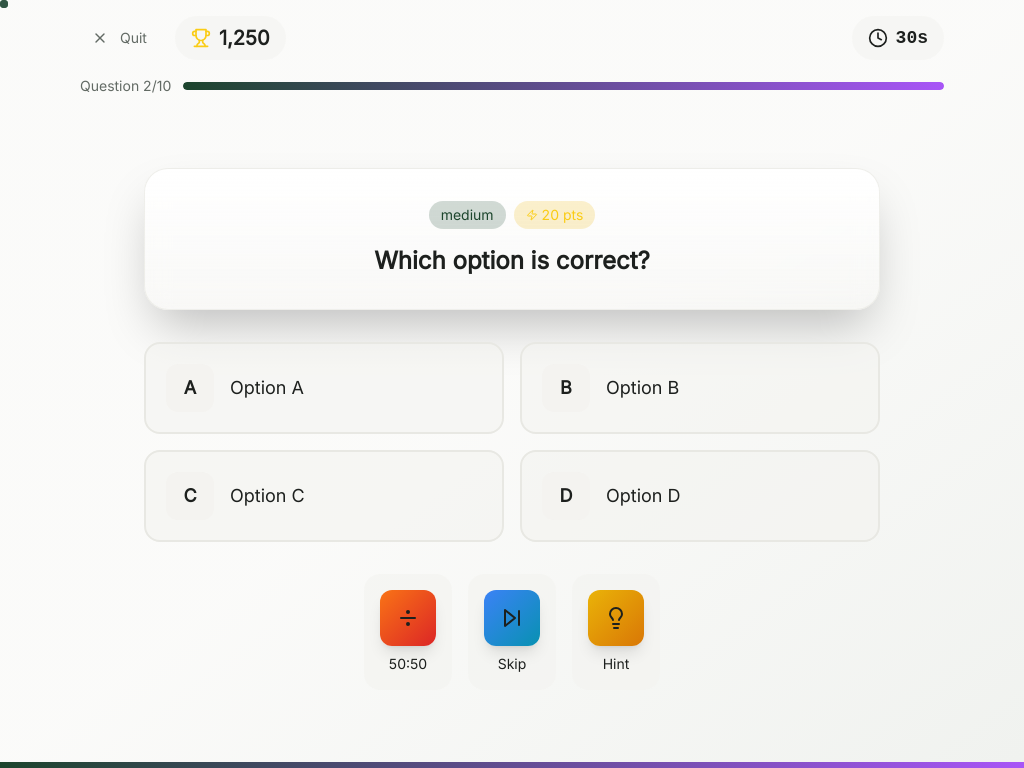
Test: QuizGame › awards normal points for a correct answer and advances after two seconds
Click the text "Option B" at (643, 388), box [606, 377, 679, 398]
Wait 2000 ms
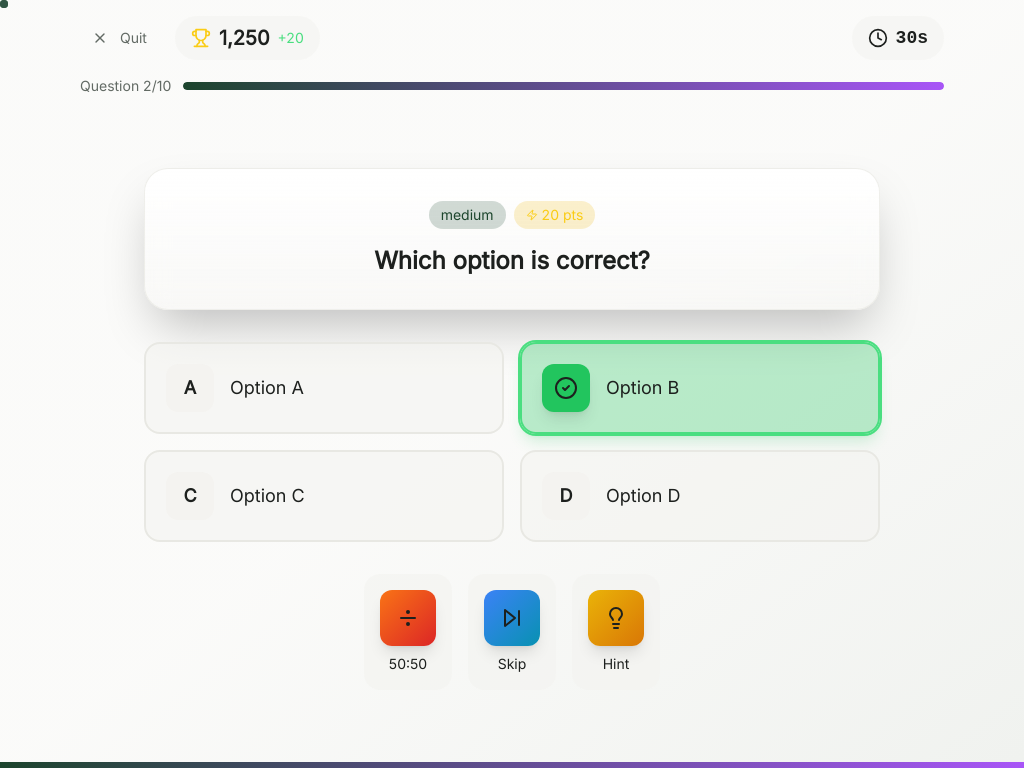
Result: the text "+20" is shown at [278, 28, 304, 48]
Result: the button "Option B" is disabled at [520, 342, 880, 434]
